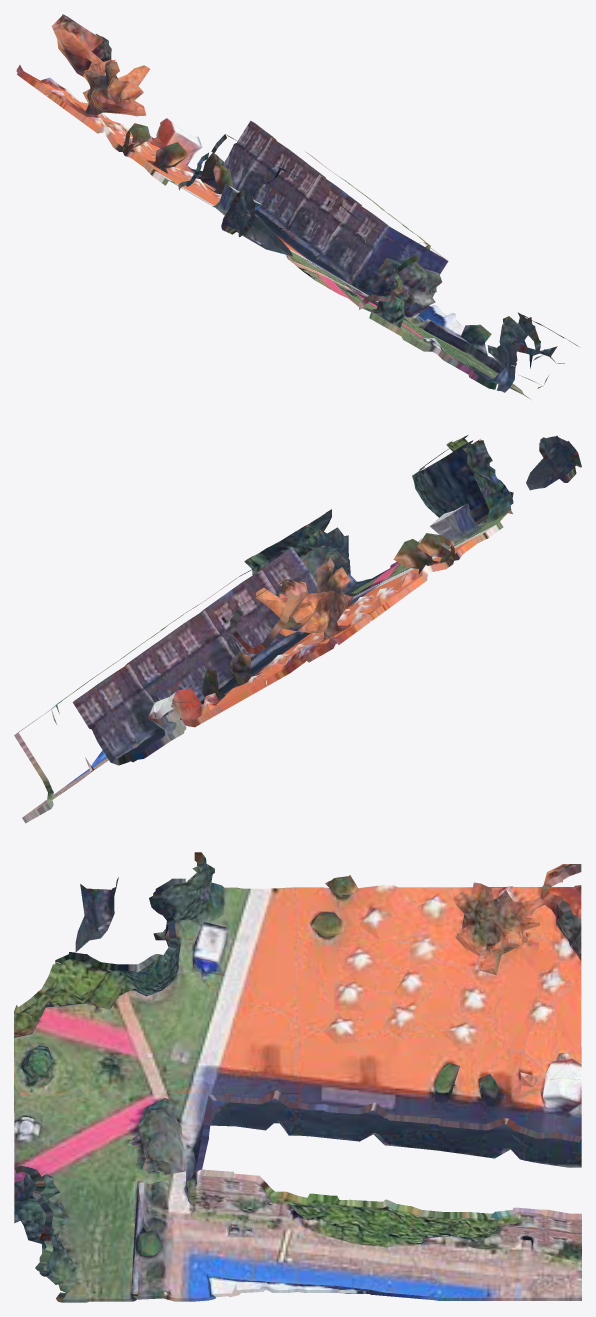
The model's file is AJVsH2zuQlAZUSetQi2pAiHP6LbM25w3tWCkE3zPBSohlnLicHPJvj_RjAXTtPh45qOHp9w1eoO-as9xq3w-YKaqIYVYXxuqW4o24lNGj3Hk_HLlV1OQSyn05kjfmPZ6LJFhFdxs_d2HCbowdJ3YIKgCju2b0Esok5ypmn0Q9iNT_veT63xgKPQTqMj0c3a39Q.glb.
The picture shows the model from 3 angles, top to bottom: view 1: azimuth 30°, elevation 25°; view 2: azimuth 150°, elevation 25°; view 3: azimuth 270°, elevation 25°; orthographic projection. The views are drawn at different scales.
Bounding box in the file's own units: 34.81 × 29.09 × 47.
Materials: 1 (1 with a texture image).
